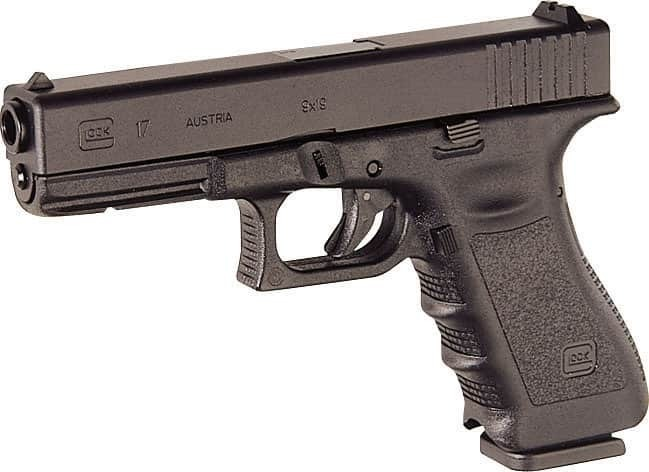gun: (0, 2, 645, 471)
